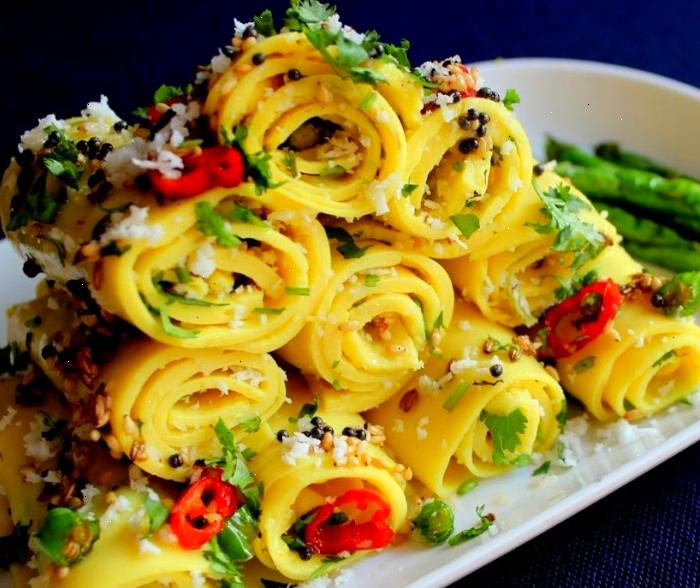khandvi: (13, 1, 700, 588)
